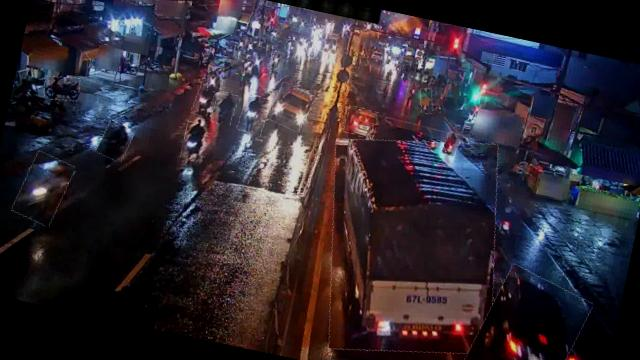Bike: (14, 150, 74, 228), (96, 119, 134, 162), (238, 92, 271, 136), (181, 120, 210, 162), (42, 72, 81, 103), (212, 90, 238, 126), (192, 83, 216, 117), (204, 66, 225, 94), (418, 86, 437, 114), (442, 132, 461, 158), (250, 52, 265, 77), (268, 50, 285, 72), (242, 58, 256, 84)
Car: (466, 263, 592, 360), (267, 82, 314, 132), (343, 105, 379, 138)
Truck: (302, 120, 523, 360)
